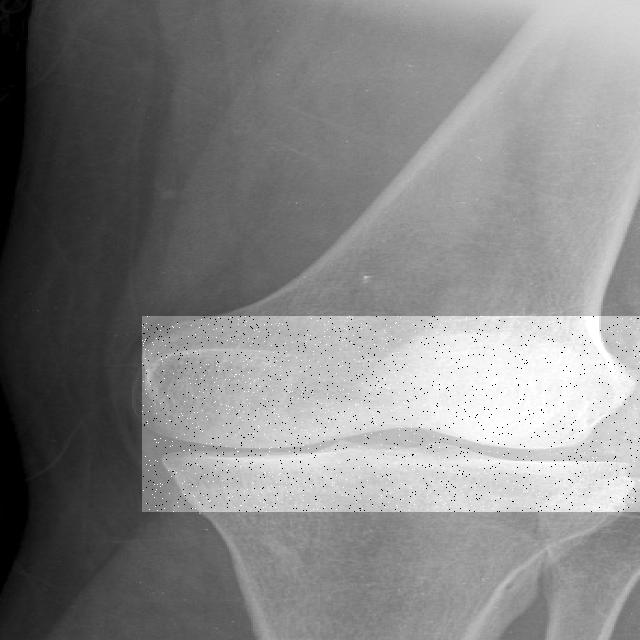osteo: (142, 316, 640, 512)
